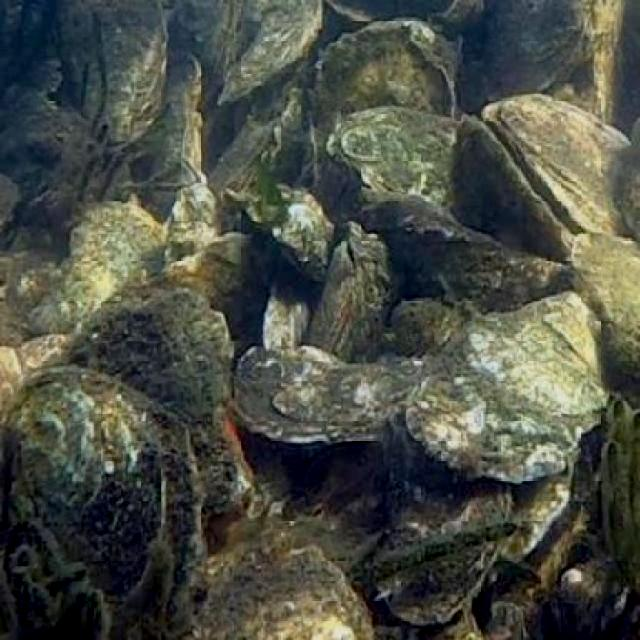Oyster-Closed: (21, 365, 204, 633), (70, 292, 251, 519), (416, 294, 611, 478), (309, 21, 457, 226), (356, 205, 571, 317), (486, 93, 633, 239), (241, 337, 421, 442), (33, 200, 169, 335), (189, 549, 376, 640), (454, 116, 570, 256), (327, 110, 461, 203), (217, 0, 324, 106), (97, 0, 168, 141), (574, 228, 640, 371), (151, 53, 199, 212), (149, 237, 257, 302), (166, 0, 229, 74), (180, 157, 205, 189)
Oyster-Open: (307, 223, 399, 356)
